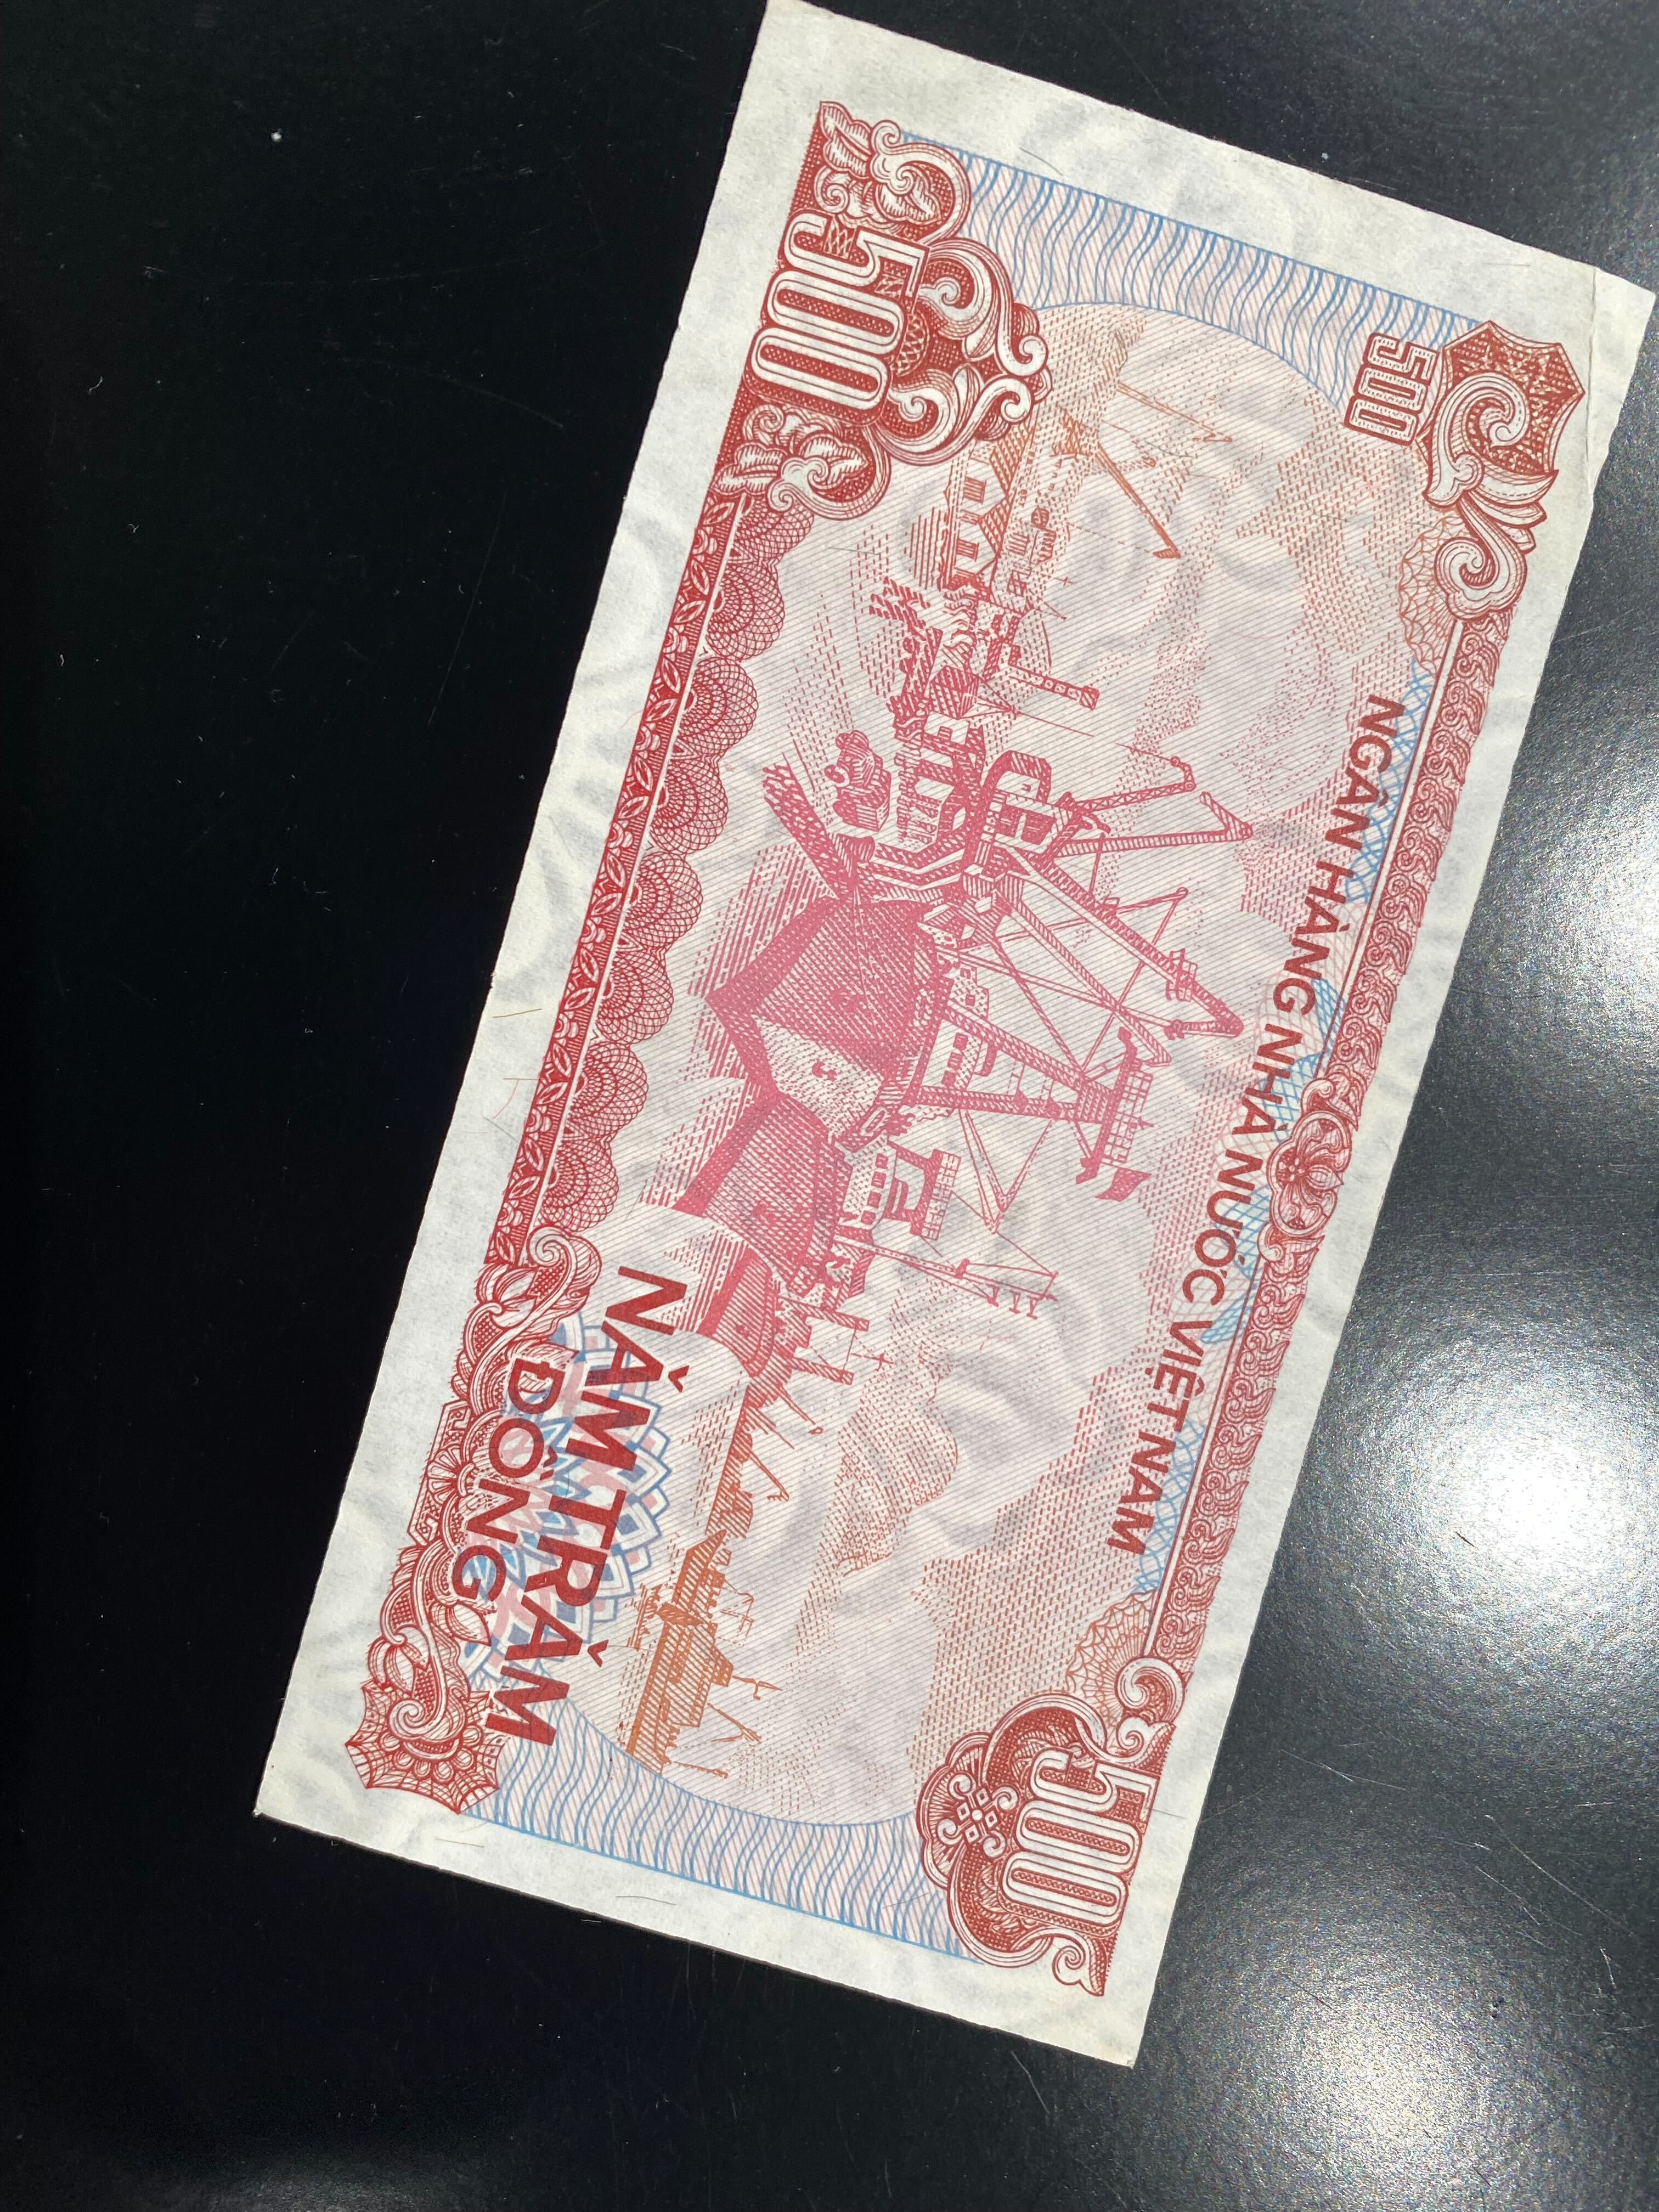500vnd: (265, 17, 1640, 2064)
